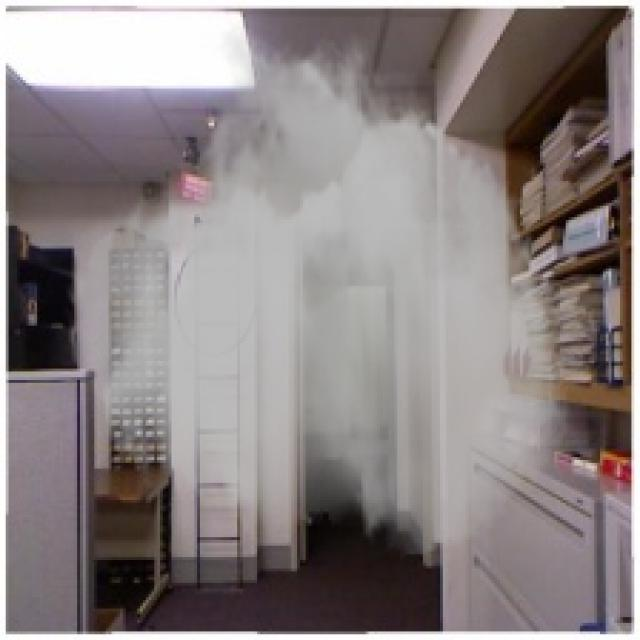smoke: (63, 20, 600, 560)
